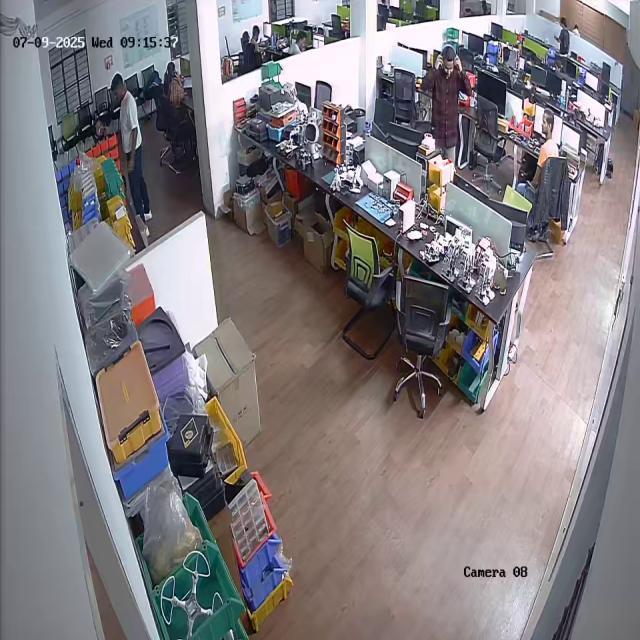person: (106, 73, 152, 234), (423, 44, 467, 171)
